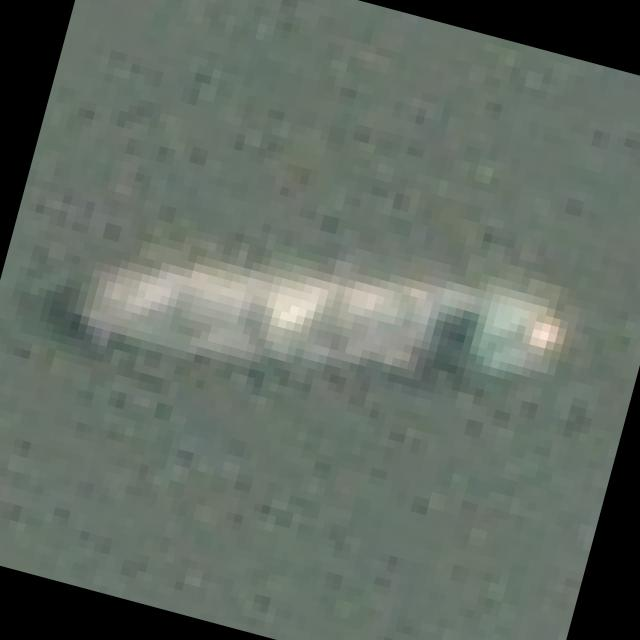ship: (28, 81, 640, 558)
